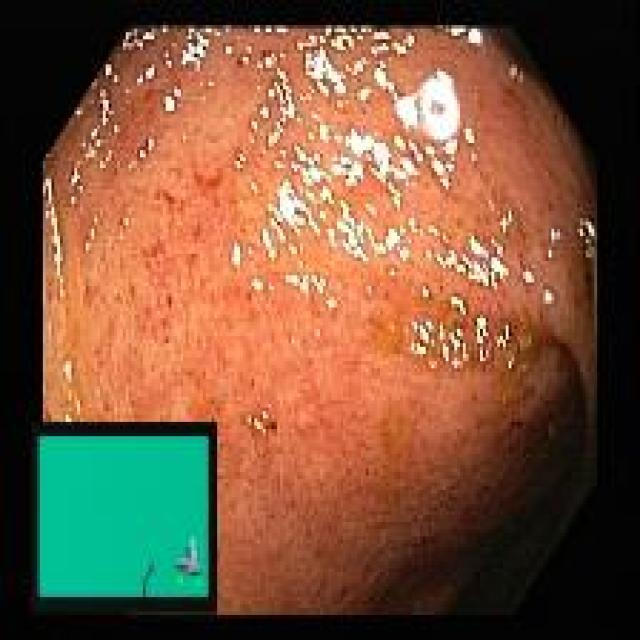ulcerative-colitis: (44, 27, 598, 613)
